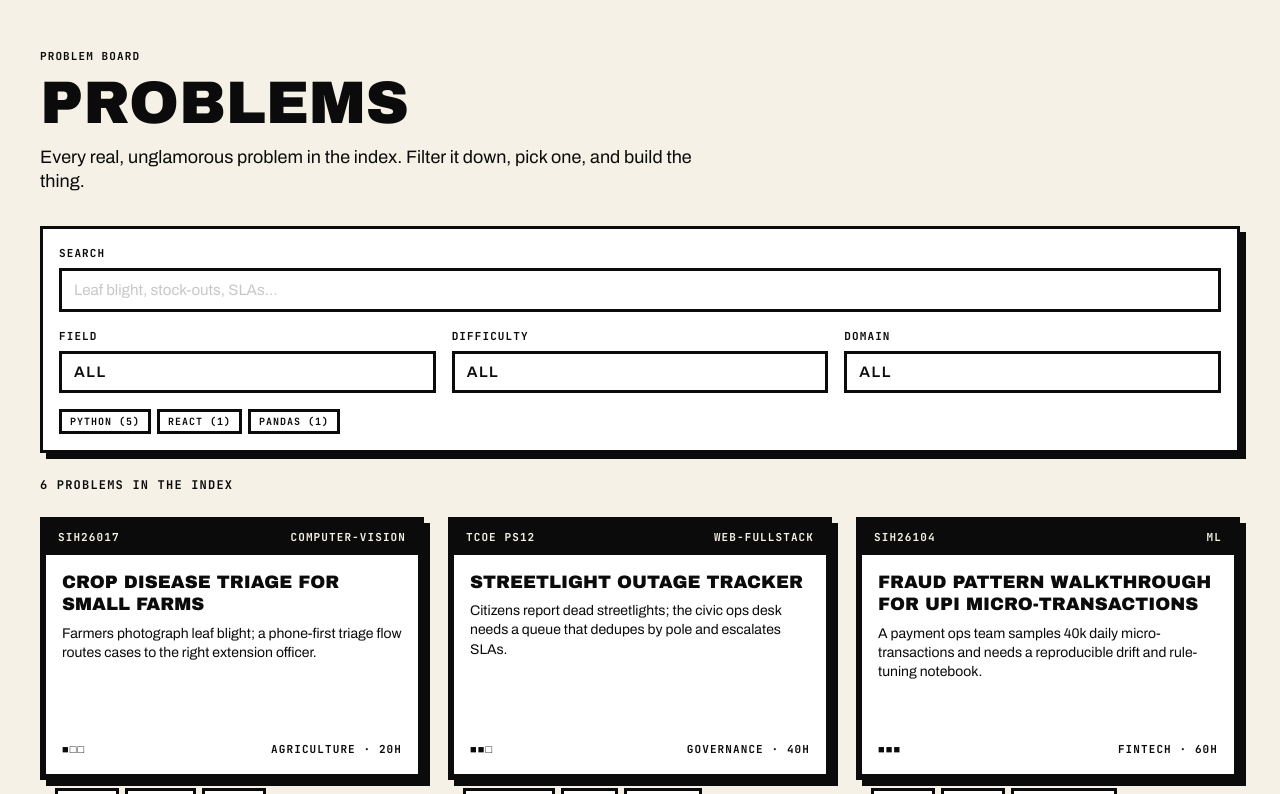
ProblemBoardPage › tech chips toggle on and off
The image size is (1280, 794).
Click the button "python (5)".
click(105, 422)  # box [59,409,151,434]
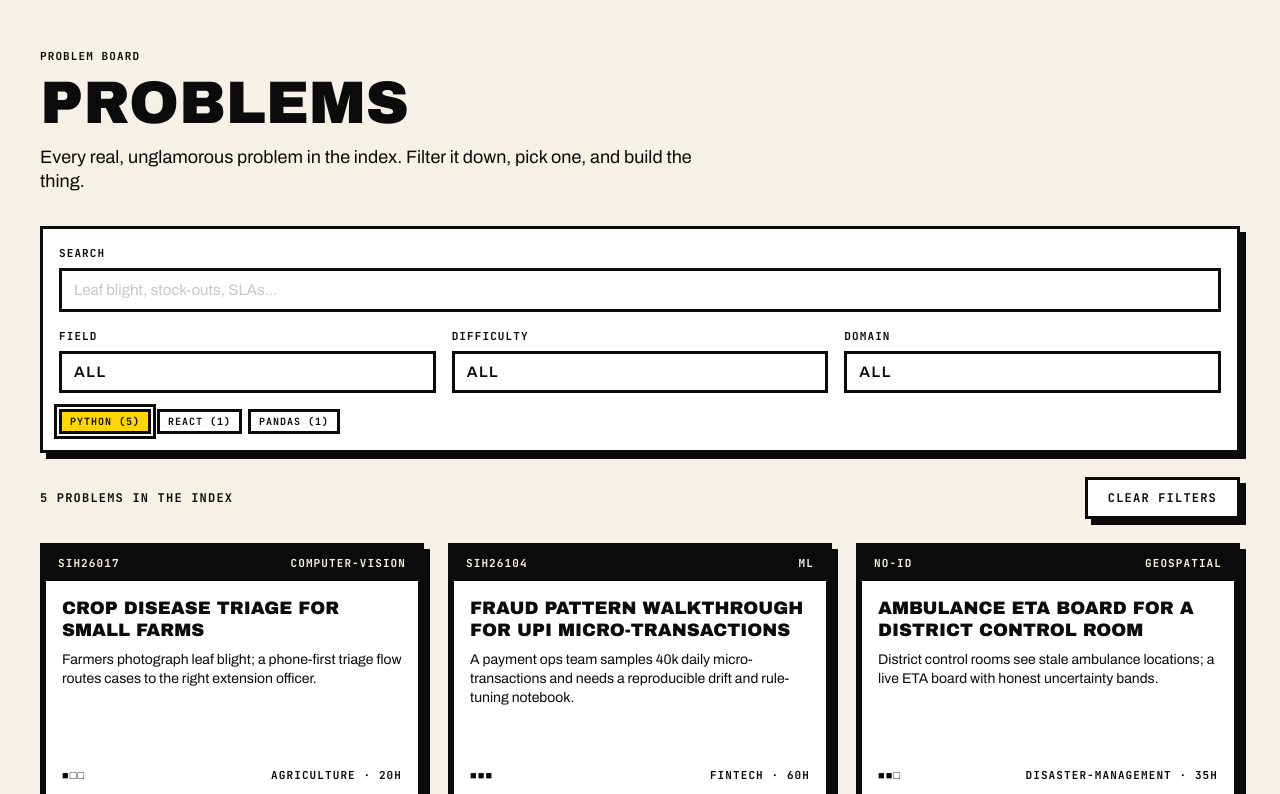
Check: the text "5 problems in the index" is shown, box [40,490,233,506]
Click the button "python (5)".
click(105, 422)  # box [59,409,151,434]
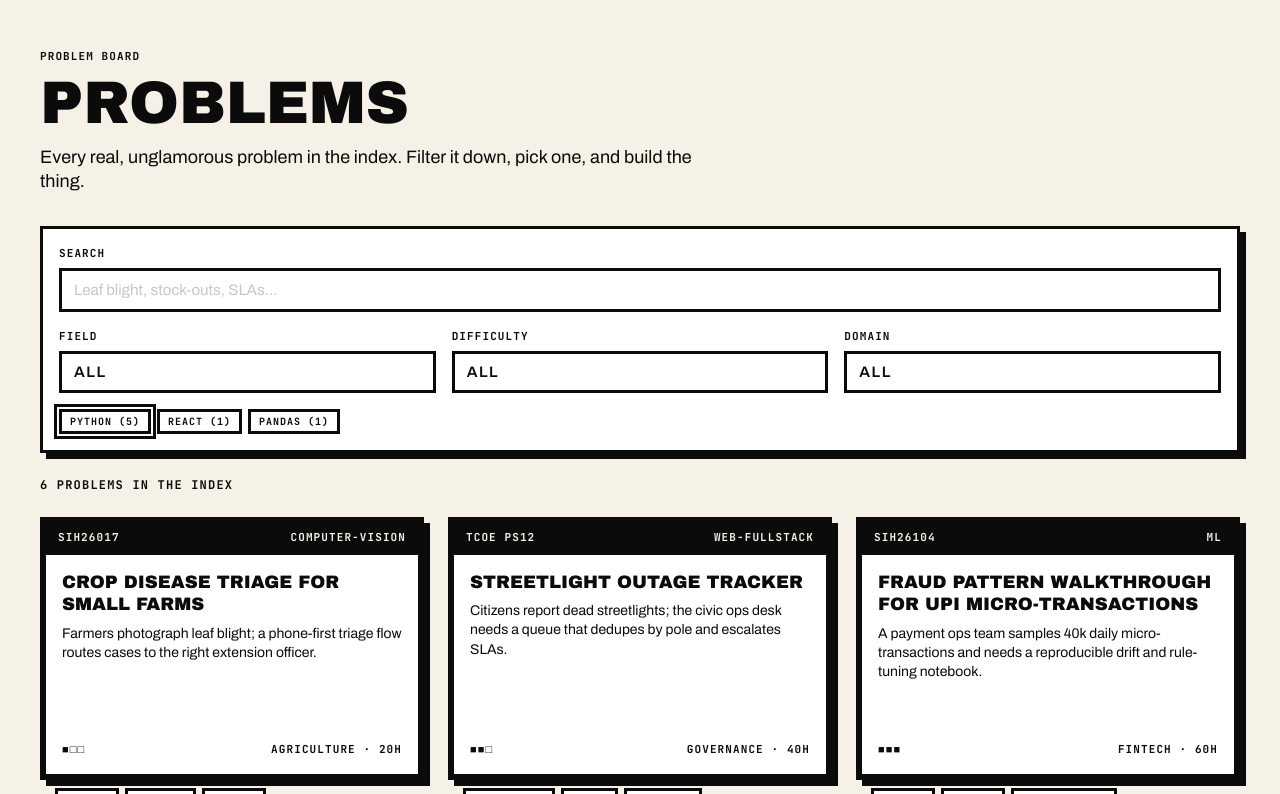
Check: the text "6 problems in the index" is shown, box [40,477,233,493]
